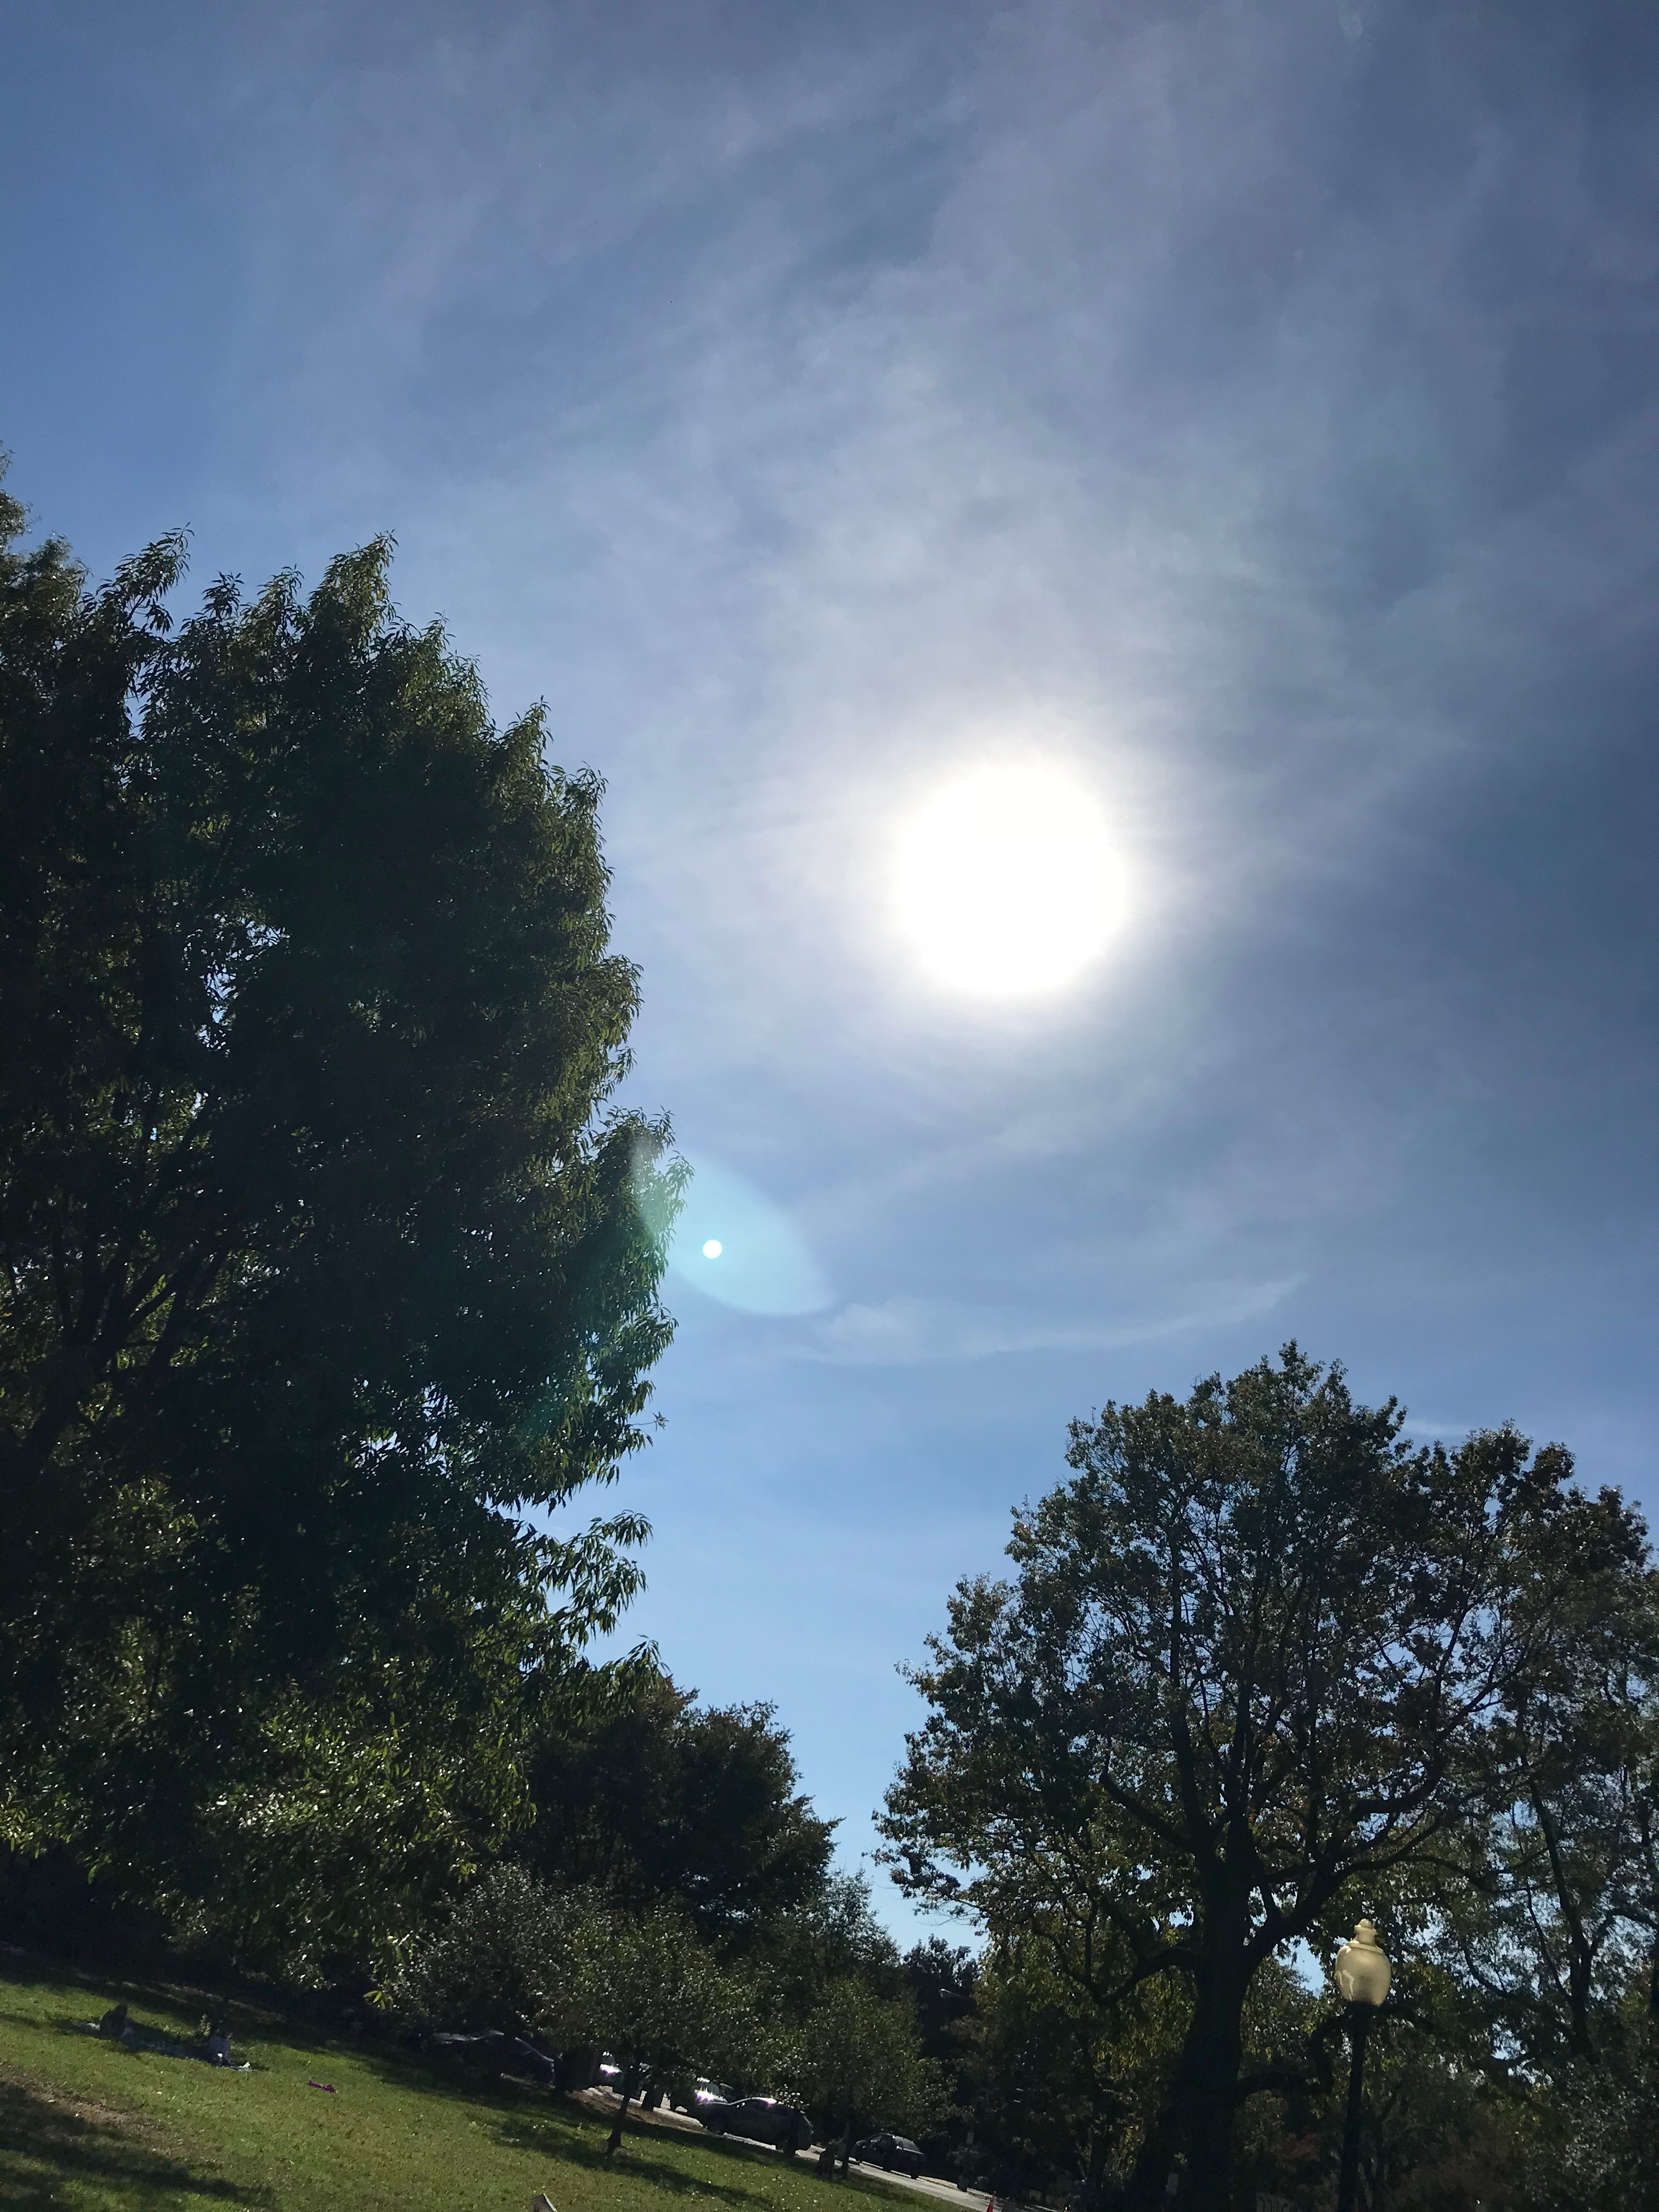flare: (699, 1237, 727, 1263)
